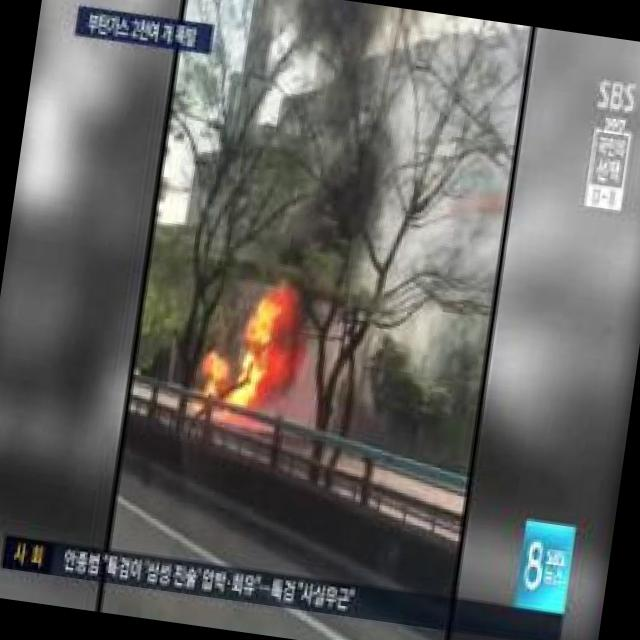Fire: (221, 301, 301, 421), (196, 350, 222, 419)
Smoke: (346, 8, 541, 407)
